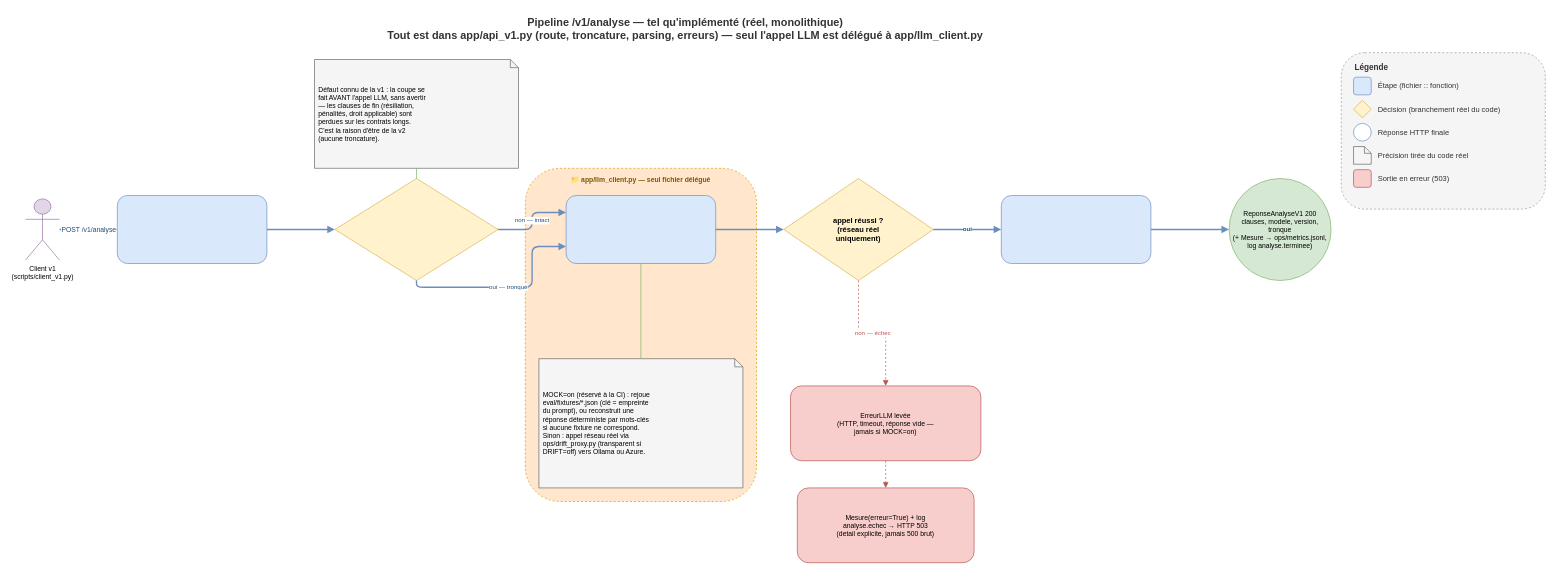
Image size: 1559x575. Some labels were removed from this diagram. Each missing label, with the centre of its shape:
app/api_v1.py _parser_clauses(): pixel 1076 229
app/api_v1.py analyse() → analyser_v1(): pixel 192 229
app/llm_client.py LLMClient.completer(): pixel 640 229
len(texte) > contexte_max_caracteres ? (16 000 car.): pixel 416 229
